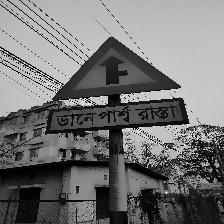Side-road-right: (46, 38, 188, 136)
